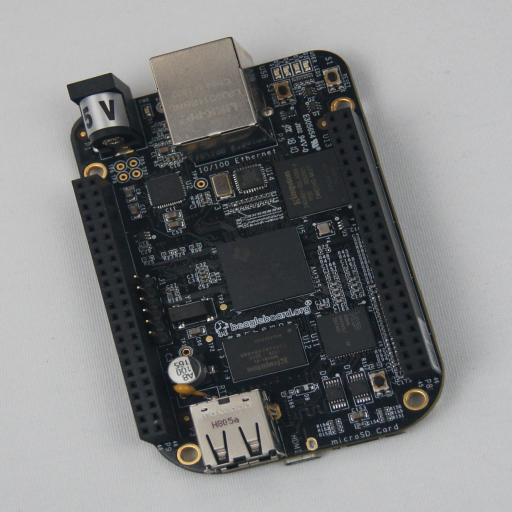Beaglebone Black: (66, 37, 444, 474)
